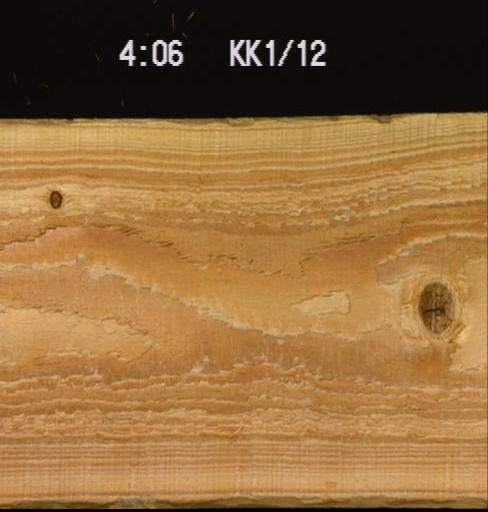dry_knot: (47, 187, 61, 208)
sound_knot: (414, 279, 456, 334)
wave: (0, 492, 486, 507), (149, 115, 263, 126), (0, 115, 100, 124)
